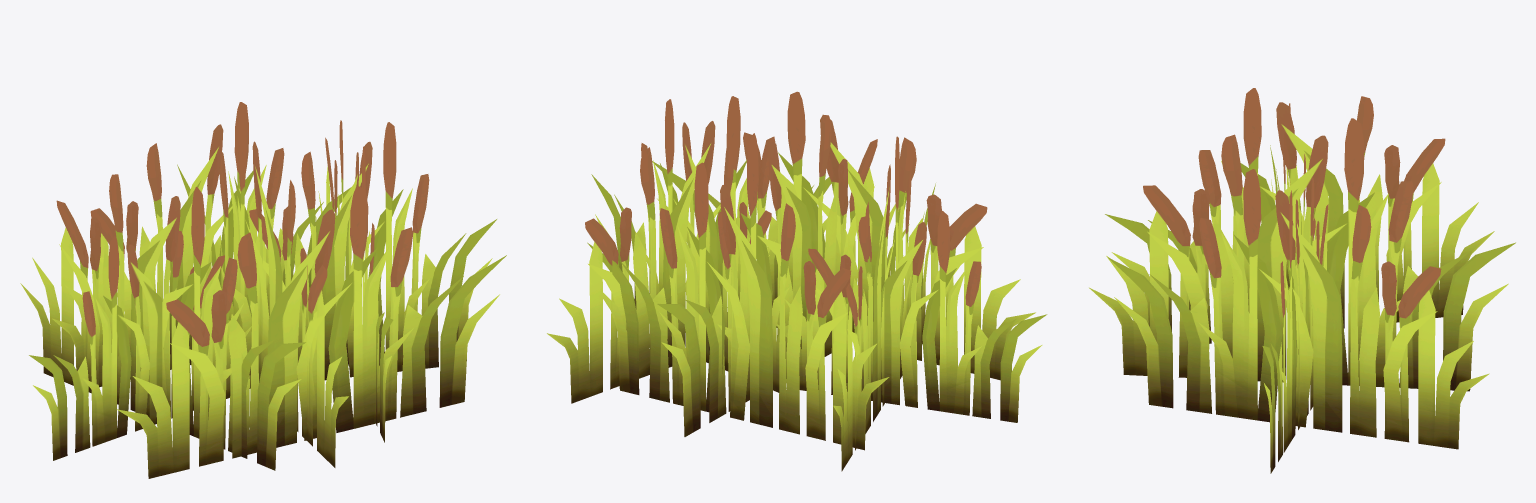
Rendered from SM_Env_Grass_Tall_Clump_02.glb.
3 renders of one model, left to right at view 1: azimuth 30°, elevation 25°; view 2: azimuth 150°, elevation 25°; view 3: azimuth 270°, elevation 25°, orthographic.
Parts seen in each view (by area): view 1: SM_Env_Grass_Tall_Clump_02; view 2: SM_Env_Grass_Tall_Clump_02; view 3: SM_Env_Grass_Tall_Clump_02.
Boxes of the visible parts, bbox=[...] form: SM_Env_Grass_Tall_Clump_02: bbox=[20, 102, 506, 478]; SM_Env_Grass_Tall_Clump_02: bbox=[547, 91, 1047, 471]; SM_Env_Grass_Tall_Clump_02: bbox=[1089, 88, 1515, 473].
Bounding box in the file's own units: 1.79 × 1.07 × 1.45.
1 material, 1 textured.
